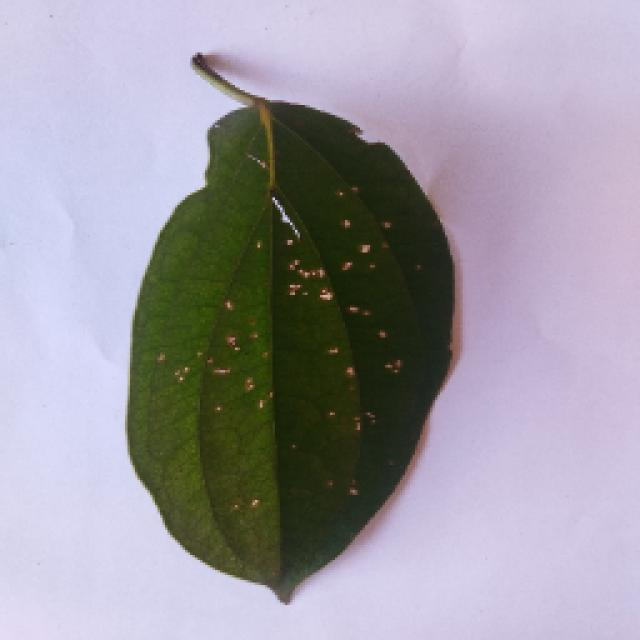pollu-disease: (120, 62, 455, 602)
